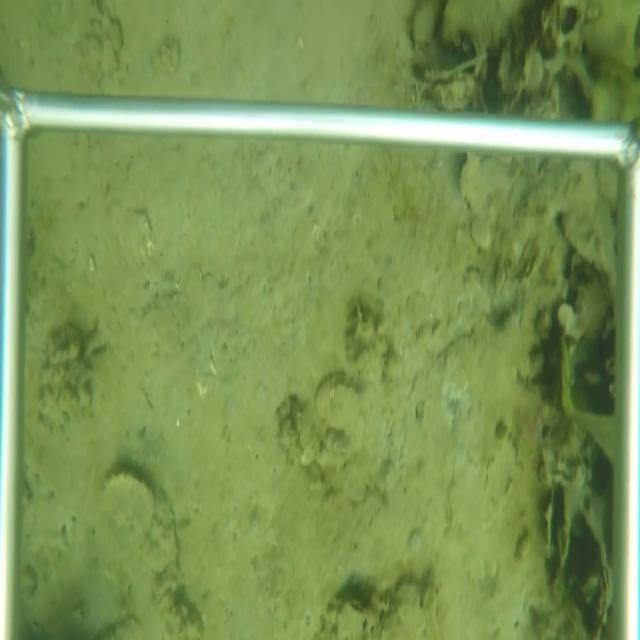Oyster-Indeterminate: (104, 466, 181, 580)
